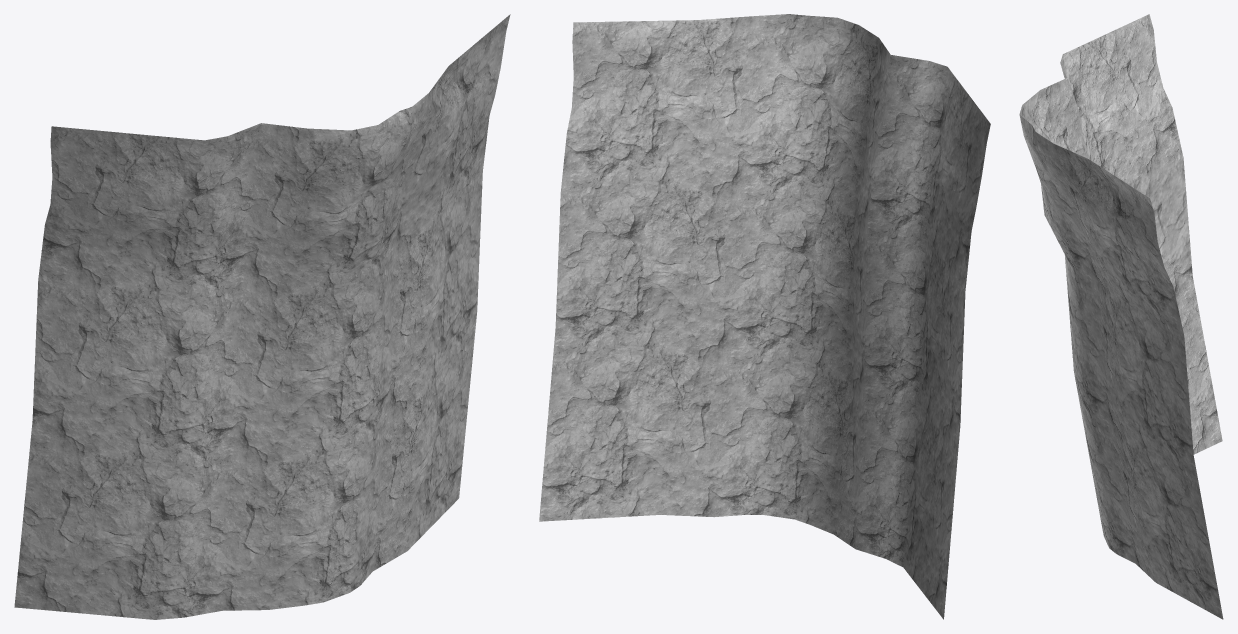
File: Cliff_Big.fbx
3 renders of one model, left to right at view 1: azimuth 30°, elevation 25°; view 2: azimuth 150°, elevation 25°; view 3: azimuth 270°, elevation 25°, orthographic. The views are drawn at different scales.
Visible parts, largest first — view 1: Cliff_Big; view 2: Cliff_Big; view 3: Cliff_Big.
Part boxes in pixels (x1,y1,x2,y2): Cliff_Big: (14,14,510,619); Cliff_Big: (539,14,990,619); Cliff_Big: (1019,14,1223,619).
Bounding box in the file's own units: 78706 × 84506 × 36788.
